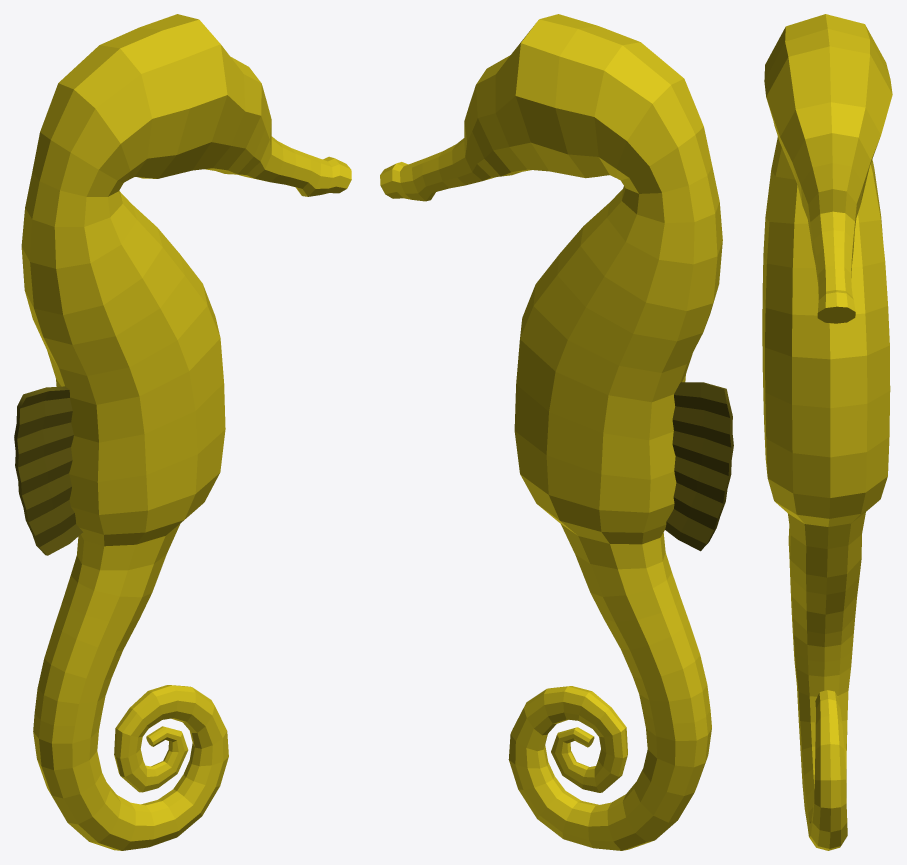
The model's file is Sea_Horse_Model.fbx.
3 views of the same model, side by side, from view 1: azimuth 30°, elevation 25°; view 2: azimuth 150°, elevation 25°; view 3: azimuth 270°, elevation 25° (orthographic).
Parts seen in each view (by area): view 1: Seahorse; view 2: Seahorse; view 3: Seahorse.
Part boxes in pixels (bbox=[...]): Seahorse: bbox=[14, 14, 351, 850]; Seahorse: bbox=[380, 14, 733, 850]; Seahorse: bbox=[762, 14, 892, 850].
Size of the model in its own units: 0.9579 by 2.2 by 0.3157.
